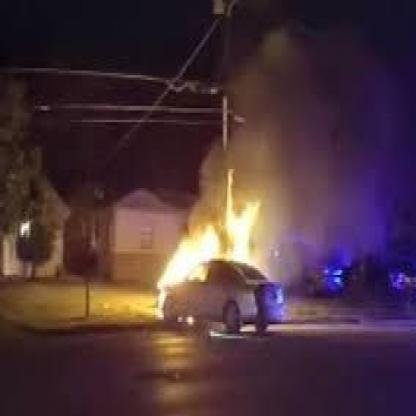Fire: (154, 127, 292, 321)
